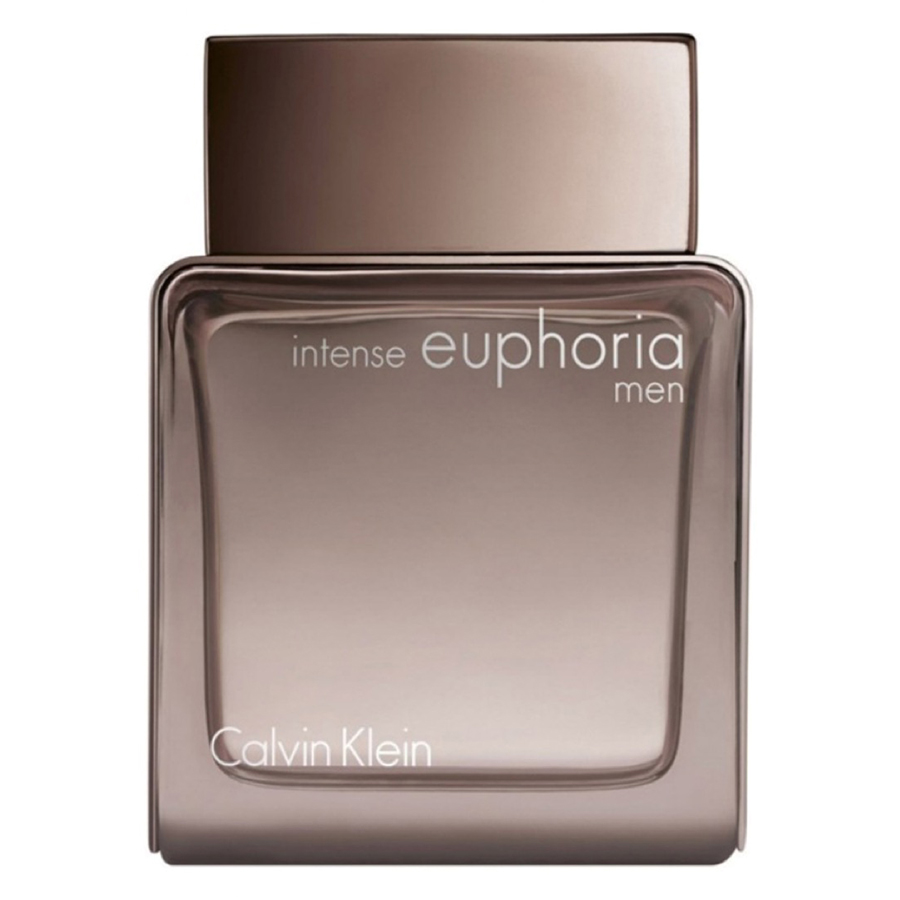Calvin Klein: (205, 719, 436, 771)
